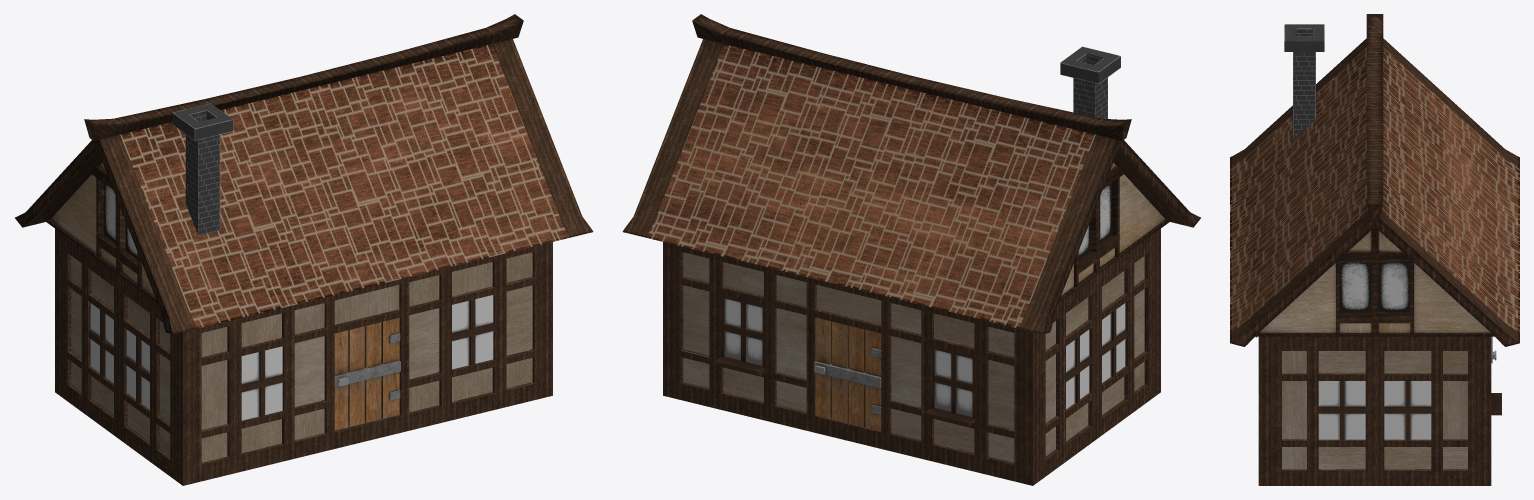
Rendered from House_5.fbx.
3 views of the same model, side by side, from view 1: azimuth 30°, elevation 25°; view 2: azimuth 150°, elevation 25°; view 3: azimuth 270°, elevation 25° (orthographic). The views are drawn at different scales.
Parts seen in each view (by area): view 1: roof6, block8, door7, Chimney3, window43, window45, window42, window40; view 2: roof6, block8, door8, window41, window44, Chimney3, window40, window42; view 3: roof6, block8, Chimney3, window53, window54.
Boxes of the visible parts, x1=… form: roof6: x1=15, y1=14, x2=593, y2=334; block8: x1=55, y1=228, x2=552, y2=485; door7: x1=334, y1=317, x2=400, y2=430; Chimney3: x1=172, y1=103, x2=233, y2=235; window43: x1=241, y1=346, x2=283, y2=420; window45: x1=452, y1=295, x2=494, y2=369; window42: x1=124, y1=329, x2=149, y2=409; window40: x1=88, y1=303, x2=113, y2=382; roof6: x1=622, y1=14, x2=1200, y2=334; block8: x1=663, y1=228, x2=1160, y2=485; door8: x1=814, y1=317, x2=881, y2=431; window41: x1=715, y1=294, x2=764, y2=374; window44: x1=925, y1=346, x2=974, y2=426; Chimney3: x1=1060, y1=46, x2=1120, y2=118; window40: x1=1066, y1=329, x2=1091, y2=409; window42: x1=1102, y1=303, x2=1127, y2=382; roof6: x1=1230, y1=14, x2=1519, y2=346; block8: x1=1258, y1=336, x2=1491, y2=485; Chimney3: x1=1284, y1=24, x2=1324, y2=139; window53: x1=1384, y1=381, x2=1431, y2=440; window54: x1=1318, y1=381, x2=1365, y2=440.
Size of the model in its own units: 11.43 by 8.63 by 7.32.
